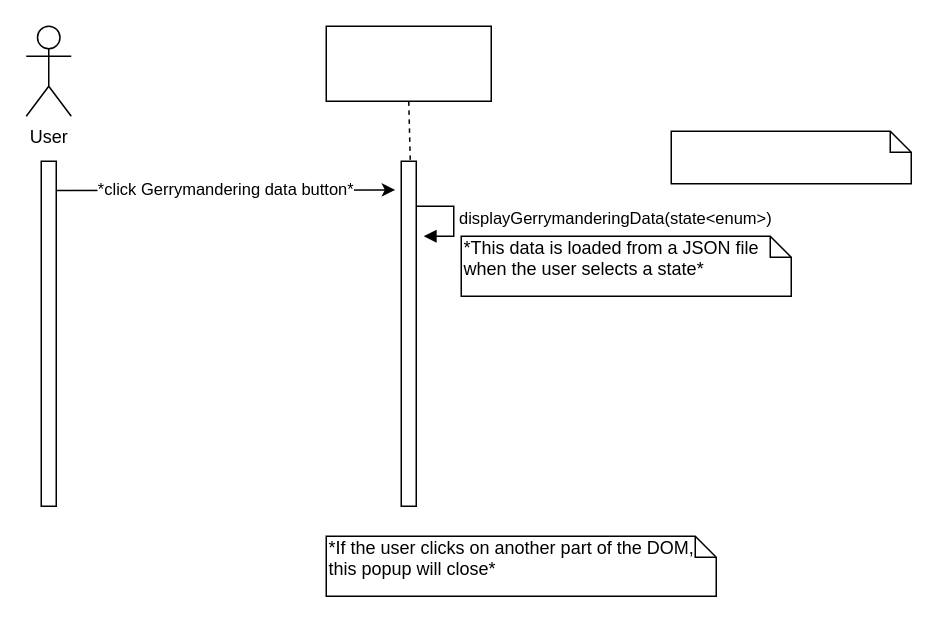
Some shapes in this 938 by 623 pixel diagram are drawn without their labels. The shapes that lost their labels are listed below. From the top down, each one's centre as x and y in pixels, then its label:
(408,63): homepage:DOM
(790,157): *opens a popup with the data*
